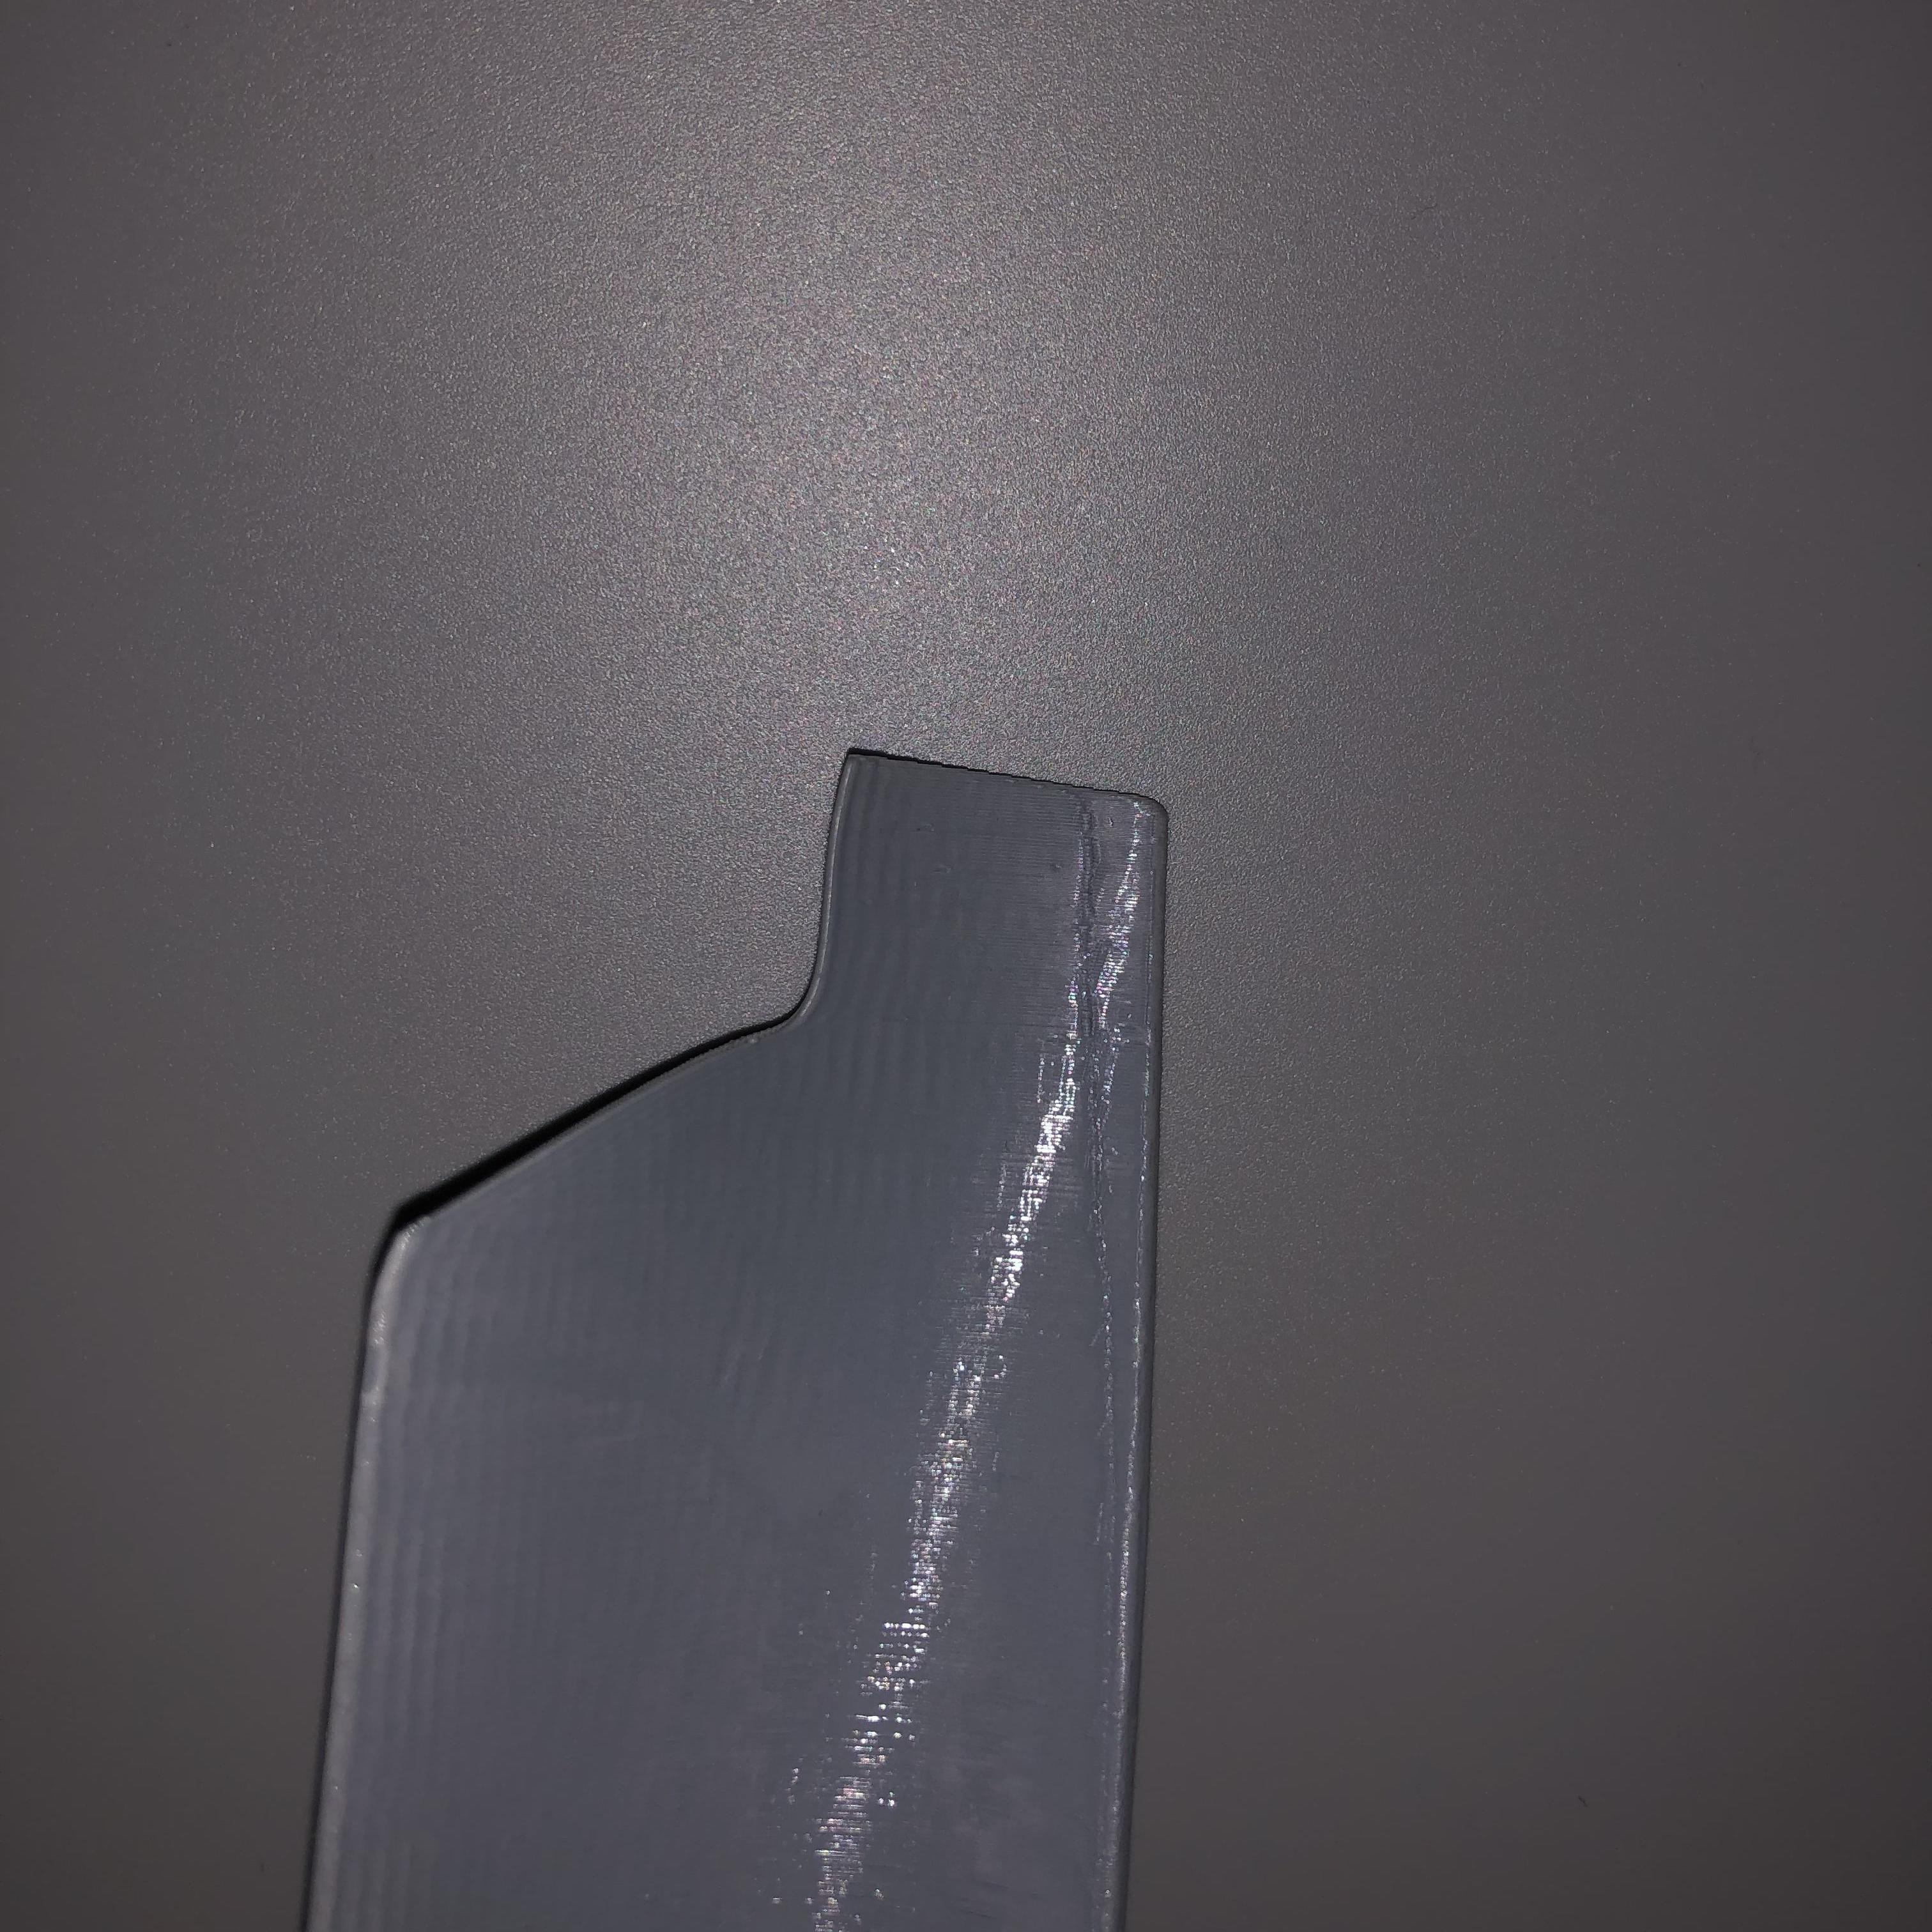fracture: (418, 763, 876, 1306)
